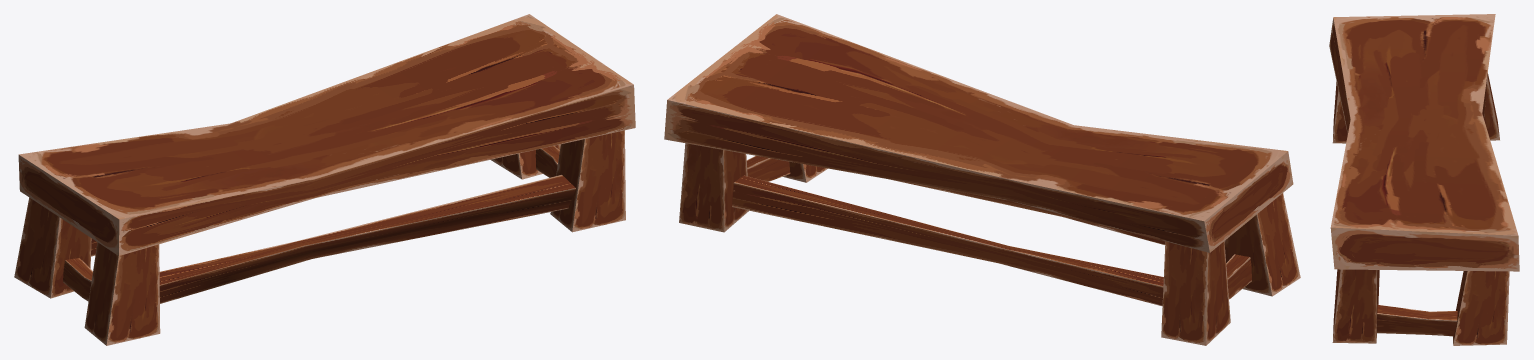
Rendered from SM_PROP_bench_01.fbx.
The picture shows the model from 3 angles, left to right: view 1: azimuth 30°, elevation 25°; view 2: azimuth 150°, elevation 25°; view 3: azimuth 270°, elevation 25°; orthographic projection. The views are drawn at different scales.
Visible parts, largest first — view 1: SM_PROP_bench_01; view 2: SM_PROP_bench_01; view 3: SM_PROP_bench_01.
Part boxes in pixels (x1=…): SM_PROP_bench_01: x1=14, y1=14, x2=635, y2=345; SM_PROP_bench_01: x1=664, y1=14, x2=1300, y2=345; SM_PROP_bench_01: x1=1329, y1=14, x2=1519, y2=345.
Bounding box in the file's own units: 181 × 44.21 × 64.06.
